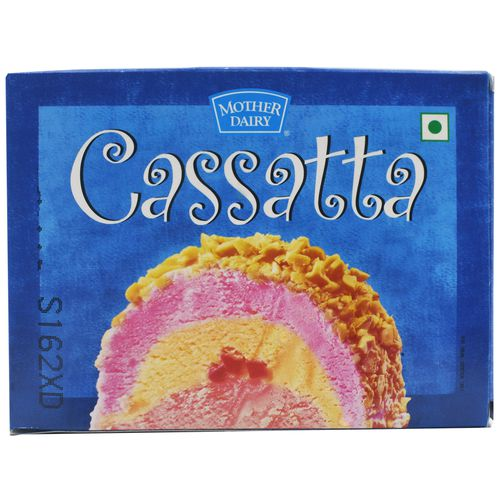Mother_Dairy: (205, 87, 292, 141)
